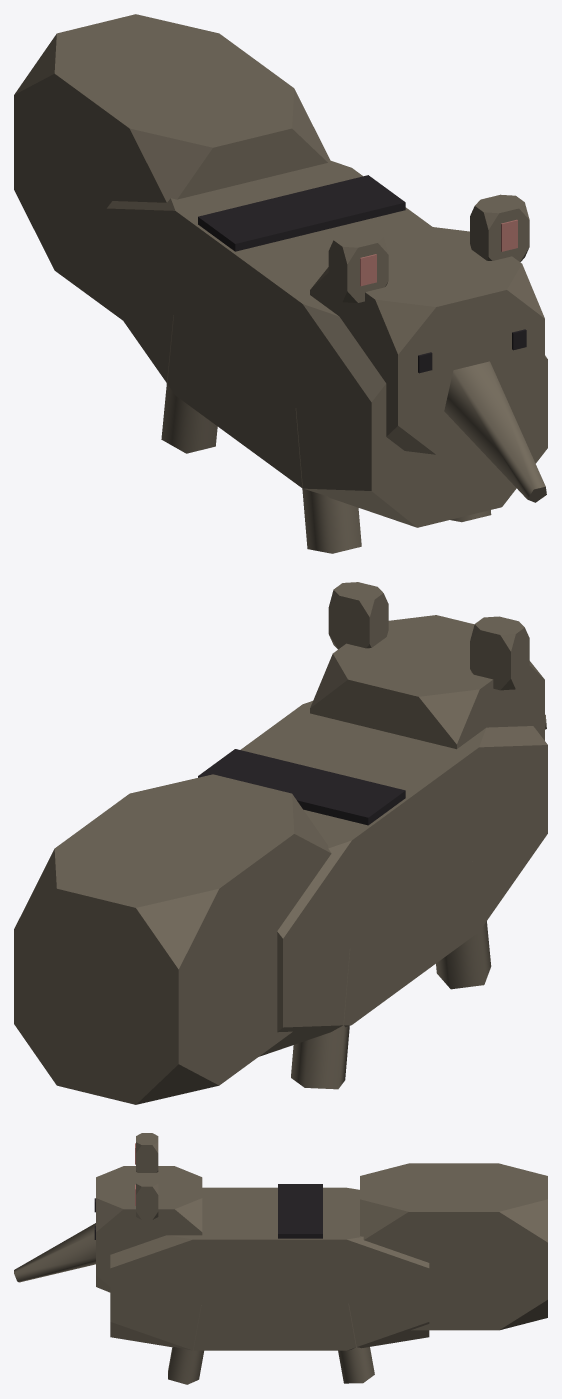
Rendered from original-anteater.glb.
3 renders of one model, top to bottom at view 1: azimuth 30°, elevation 25°; view 2: azimuth 150°, elevation 25°; view 3: azimuth 270°, elevation 25°, orthographic. The views are drawn at different scales.
Visible parts, largest first — view 1: anteater; view 2: anteater; view 3: anteater.
Boxes of the visible parts, x1,y1,x2,y2 form: anteater: (14, 14, 547, 553); anteater: (14, 582, 547, 1104); anteater: (14, 1133, 547, 1384).
Size of the model in its own units: 0.62 by 1.08 by 2.61.
